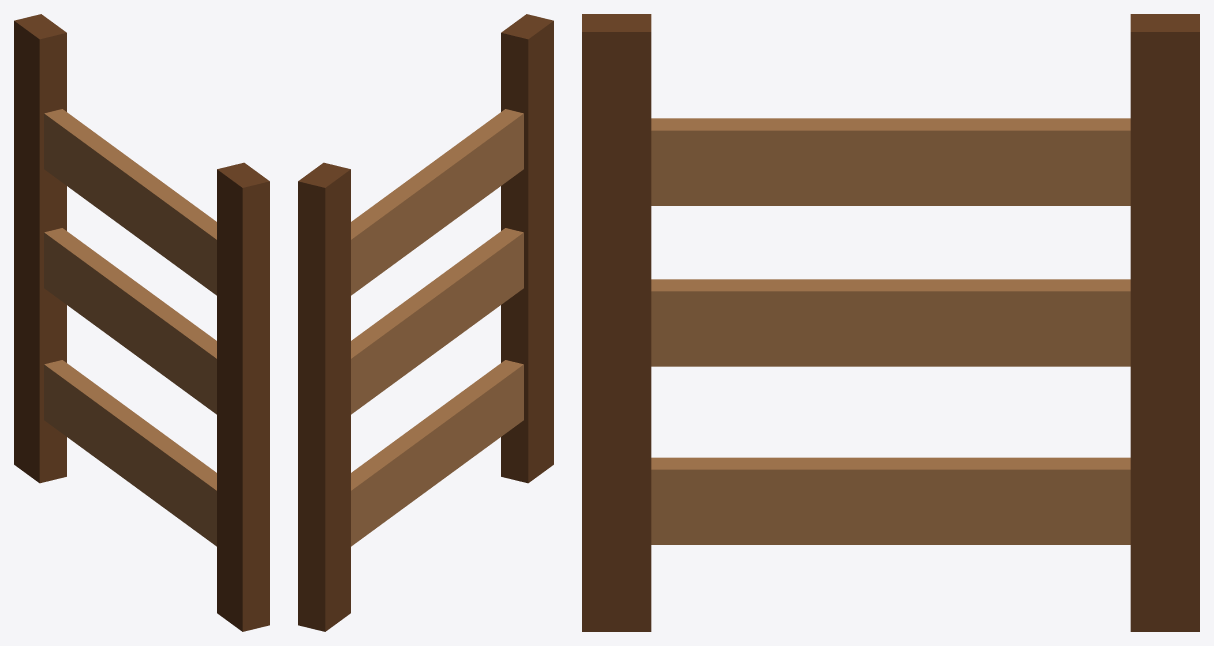
Rendered from Cit_1.fbx.
3 views of the same model, side by side, from view 1: azimuth 30°, elevation 25°; view 2: azimuth 150°, elevation 25°; view 3: azimuth 270°, elevation 25° (orthographic). The views are drawn at different scales.
Parts seen in each view (by area): view 1: Cit_1; view 2: Cit_1; view 3: Cit_1.
Boxes of the visible parts, box(x1,y1,x2,y2) form: Cit_1: box(14, 14, 269, 631); Cit_1: box(298, 14, 553, 631); Cit_1: box(582, 14, 1199, 631).
Size of the model in its own units: 38.85 by 604 by 564.
